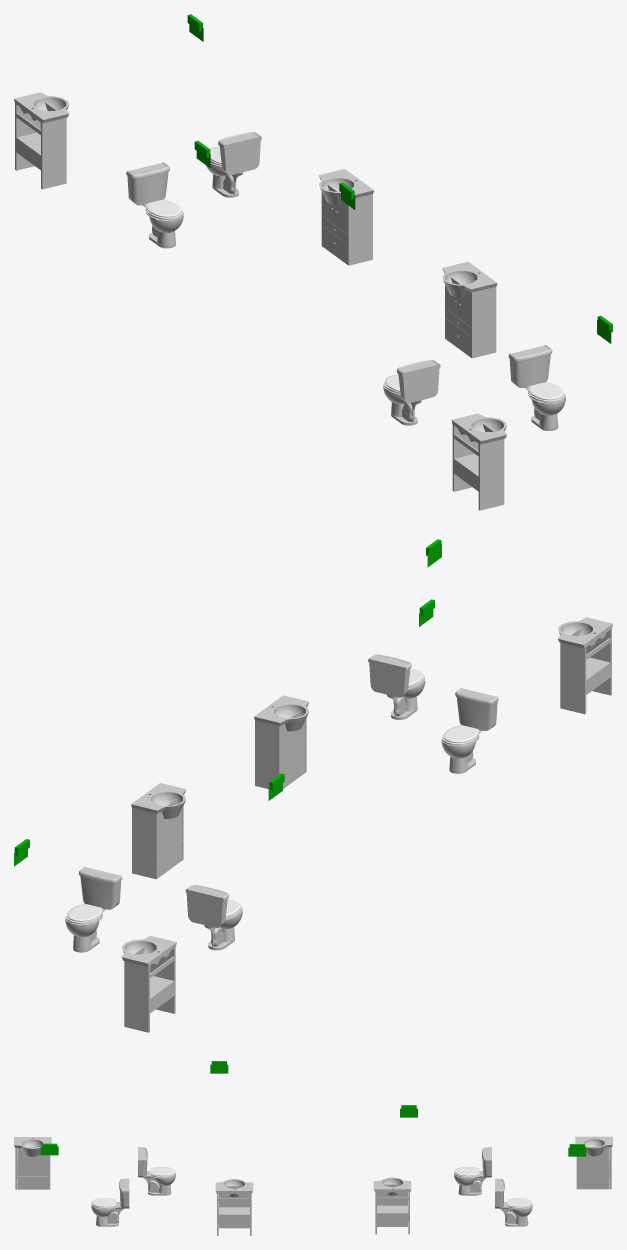
File: interiors.glb
The picture shows the model from 3 angles, top to bottom: view 1: azimuth 30°, elevation 25°; view 2: azimuth 150°, elevation 25°; view 3: azimuth 270°, elevation 25°; orthographic projection. The views are drawn at different scales.
Visible parts, largest first — view 1: Vanitory-Ferrum-Marina-X6HC Blanco, Lavatorio de 1 Aguj_052c, Vanitory-Ferrum-Marina-X6HC Blanco, Lavatorio de 1 Aguj_89c1, Vanitory-Ferrum-Marina-X6HC Blanco, Lavatorio de 1 Aguj_314c, Vanitory-Ferrum-Marina-X6HC Blanco, Lavatorio de 1 Aguj_b1e0, SAN-Inodoro-Ferrum-Andina-Deposito Deposito [654977], SAN-Inodoro-Ferrum-Andina-Deposito Deposito [847325], SAN-Inodoro-Ferrum-Andina-Deposito Deposito [351373], SAN-Inodoro-Ferrum-Andina-Deposito Deposito [655011], Lavatorio-Ferrum-Marina-65 1 Agujero, Blanco [434587], Lavatorio-Ferrum-Marina-65 1 Agujero, Blanco [434582], Lavatorio-Ferrum-Marina-65 1 Agujero, Blanco [847327], Lavatorio-Ferrum-Marina-65 1 Agujero, Blanco [351375] (+4 smaller); view 2: Vanitory-Ferrum-Marina-X6HC Blanco, Lavatorio de 1 Aguj_052c, Vanitory-Ferrum-Marina-X6HC Blanco, Lavatorio de 1 Aguj_89c1, Vanitory-Ferrum-Marina-X6HC Blanco, Lavatorio de 1 Aguj_b1e0, Vanitory-Ferrum-Marina-X6HC Blanco, Lavatorio de 1 Aguj_314c, SAN-Inodoro-Ferrum-Andina-Deposito Deposito [655011], SAN-Inodoro-Ferrum-Andina-Deposito Deposito [351373], SAN-Inodoro-Ferrum-Andina-Deposito Deposito [654977], SAN-Inodoro-Ferrum-Andina-Deposito Deposito [847325], Lavatorio-Ferrum-Marina-65 1 Agujero, Blanco [434587], Lavatorio-Ferrum-Marina-65 1 Agujero, Blanco [351375], Lavatorio-Ferrum-Marina-65 1 Agujero, Blanco [847327], Lavatorio-Ferrum-Marina-65 1 Agujero, Blanco [434582] (+4 smaller); view 3: Vanitory-Ferrum-Marina-X6HC Blanco, Lavatorio de 1 Aguj_89c1, Vanitory-Ferrum-Marina-X6HC Blanco, Lavatorio de 1 Aguj_052c, Vanitory-Ferrum-Marina-X6HC Blanco, Lavatorio de 1 Aguj_314c, Vanitory-Ferrum-Marina-X6HC Blanco, Lavatorio de 1 Aguj_b1e0, Lavatorio-Ferrum-Marina-65 1 Agujero, Blanco [434587], Lavatorio-Ferrum-Marina-65 1 Agujero, Blanco [847327], Lavatorio-Ferrum-Marina-65 1 Agujero, Blanco [351375], Lavatorio-Ferrum-Marina-65 1 Agujero, Blanco [434582], SAN-Inodoro-Ferrum Inodoro Largo, Blanco [654975], SAN-Inodoro-Ferrum Inodoro Largo, Blanco [655009], SAN-Inodoro-Ferrum Inodoro Largo, Blanco [351371], SAN-Inodoro-Ferrum Inodoro Largo, Blanco [847323] (+5 smaller).
Part boxes in pixels (x1,y1,x2,y2): Vanitory-Ferrum-Marina-X6HC Blanco, Lavatorio de 1 Aguj_052c: (452,423,504,510); Vanitory-Ferrum-Marina-X6HC Blanco, Lavatorio de 1 Aguj_89c1: (15,102,66,189); Vanitory-Ferrum-Marina-X6HC Blanco, Lavatorio de 1 Aguj_314c: (445,277,496,358); Vanitory-Ferrum-Marina-X6HC Blanco, Lavatorio de 1 Aguj_b1e0: (321,185,372,265); SAN-Inodoro-Ferrum-Andina-Deposito Deposito [654977]: (397,359,440,403); SAN-Inodoro-Ferrum-Andina-Deposito Deposito [847325]: (218,132,261,175); SAN-Inodoro-Ferrum-Andina-Deposito Deposito [351373]: (126,162,169,205); SAN-Inodoro-Ferrum-Andina-Deposito Deposito [655011]: (508,344,552,388); Lavatorio-Ferrum-Marina-65 1 Agujero, Blanco [434587]: (442,261,497,297); Lavatorio-Ferrum-Marina-65 1 Agujero, Blanco [434582]: (451,413,506,444); Lavatorio-Ferrum-Marina-65 1 Agujero, Blanco [847327]: (14,92,69,123); Lavatorio-Ferrum-Marina-65 1 Agujero, Blanco [351375]: (319,169,373,204); Vanitory-Ferrum-Marina-X6HC Blanco, Lavatorio de 1 Aguj_052c: (560,627,611,714); Vanitory-Ferrum-Marina-X6HC Blanco, Lavatorio de 1 Aguj_89c1: (124,946,175,1032); Vanitory-Ferrum-Marina-X6HC Blanco, Lavatorio de 1 Aguj_b1e0: (132,798,183,879); Vanitory-Ferrum-Marina-X6HC Blanco, Lavatorio de 1 Aguj_314c: (255,711,306,788); SAN-Inodoro-Ferrum-Andina-Deposito Deposito [655011]: (368,654,411,697); SAN-Inodoro-Ferrum-Andina-Deposito Deposito [351373]: (185,885,228,927); SAN-Inodoro-Ferrum-Andina-Deposito Deposito [654977]: (455,687,498,730); SAN-Inodoro-Ferrum-Andina-Deposito Deposito [847325]: (79,866,122,909); Lavatorio-Ferrum-Marina-65 1 Agujero, Blanco [434587]: (254,695,308,731); Lavatorio-Ferrum-Marina-65 1 Agujero, Blanco [351375]: (131,783,186,818); Lavatorio-Ferrum-Marina-65 1 Agujero, Blanco [847327]: (121,936,176,966); Lavatorio-Ferrum-Marina-65 1 Agujero, Blanco [434582]: (557,617,612,648); Vanitory-Ferrum-Marina-X6HC Blanco, Lavatorio de 1 Aguj_89c1: (576,1147,611,1189); Vanitory-Ferrum-Marina-X6HC Blanco, Lavatorio de 1 Aguj_052c: (15,1147,50,1189); Vanitory-Ferrum-Marina-X6HC Blanco, Lavatorio de 1 Aguj_314c: (217,1186,251,1235); Vanitory-Ferrum-Marina-X6HC Blanco, Lavatorio de 1 Aguj_b1e0: (375,1184,409,1234); Lavatorio-Ferrum-Marina-65 1 Agujero, Blanco [434587]: (215,1179,253,1197); Lavatorio-Ferrum-Marina-65 1 Agujero, Blanco [847327]: (575,1136,612,1156); Lavatorio-Ferrum-Marina-65 1 Agujero, Blanco [351375]: (373,1177,411,1195); Lavatorio-Ferrum-Marina-65 1 Agujero, Blanco [434582]: (14,1137,51,1156); SAN-Inodoro-Ferrum Inodoro Largo, Blanco [654975]: (143,1170,175,1195); SAN-Inodoro-Ferrum Inodoro Largo, Blanco [655009]: (91,1202,124,1226); SAN-Inodoro-Ferrum Inodoro Largo, Blanco [351371]: (454,1170,486,1195); SAN-Inodoro-Ferrum Inodoro Largo, Blanco [847323]: (499,1202,532,1226).
Size of the model in its own units: 2.2 by 2.43 by 10.24.
